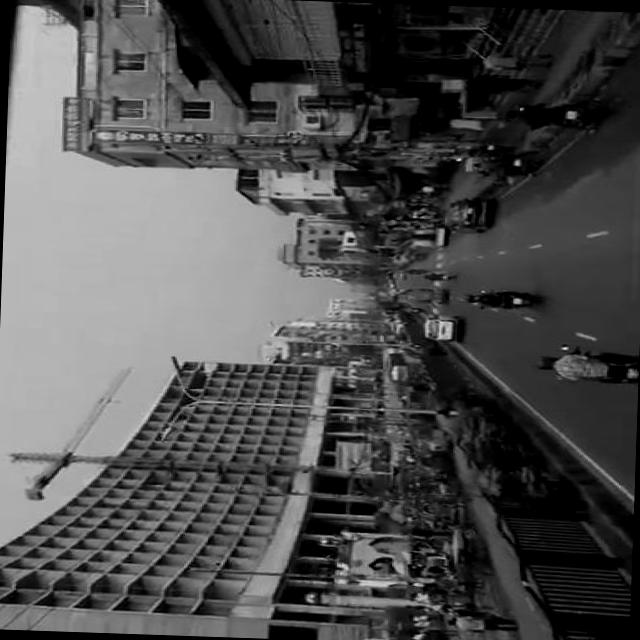bus: (382, 348, 417, 382)
car: (441, 193, 488, 233), (418, 310, 458, 340)
motorcycle: (550, 342, 636, 385), (476, 286, 538, 308), (549, 102, 598, 126), (412, 424, 448, 450), (414, 452, 451, 477), (419, 499, 462, 520), (494, 154, 536, 172), (412, 284, 442, 303), (422, 554, 452, 572)
